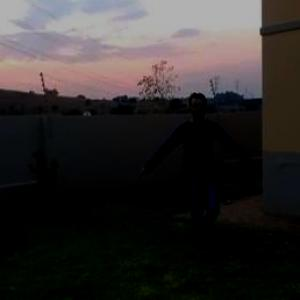land: (137, 93, 250, 237)
